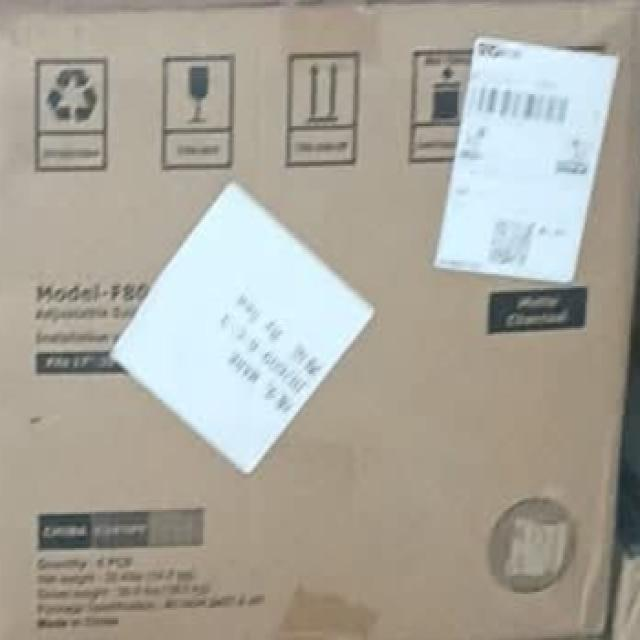carton_box: (0, 12, 640, 640)
export_mark_label: (467, 33, 598, 300)
fragile_label: (160, 50, 247, 174)
this_side_up_label: (279, 44, 372, 178)
